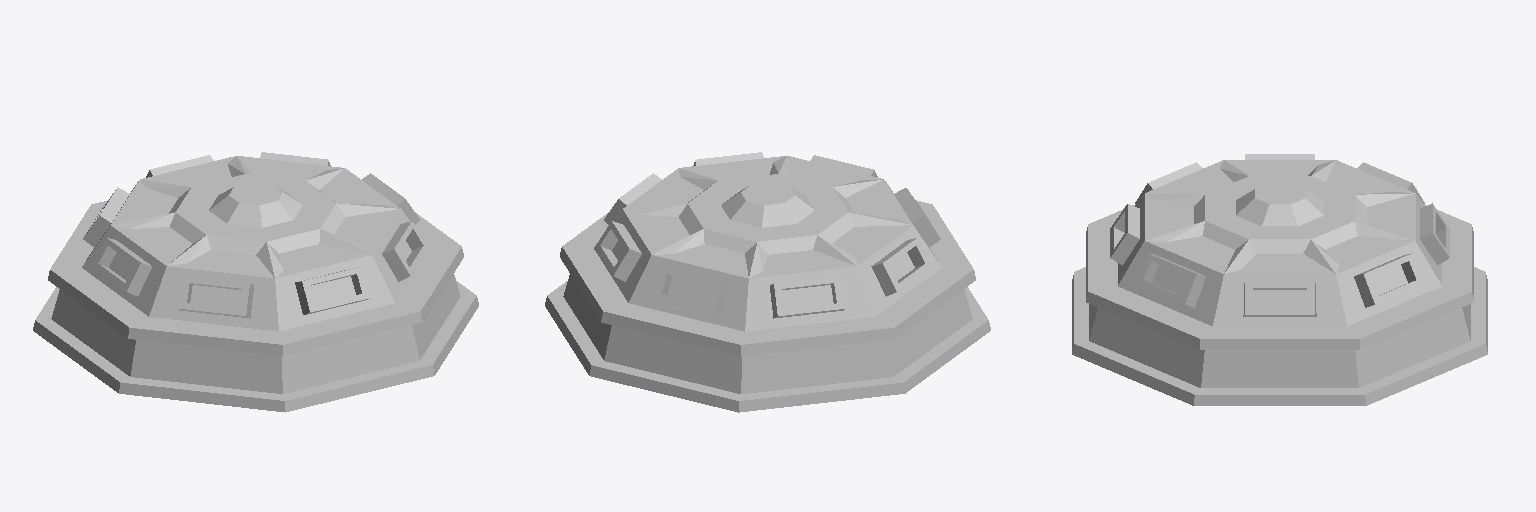
Rendered from Tower_Base.obj.
3 renders of one model, left to right at view 1: azimuth 30°, elevation 25°; view 2: azimuth 150°, elevation 25°; view 3: azimuth 270°, elevation 25°, orthographic.
Parts seen in each view (by area): view 1: TowerBase_Cylinder.001; view 2: TowerBase_Cylinder.001; view 3: TowerBase_Cylinder.001.
Part boxes in pixels (bbox=[...]): TowerBase_Cylinder.001: bbox=[33, 152, 478, 412]; TowerBase_Cylinder.001: bbox=[545, 152, 990, 412]; TowerBase_Cylinder.001: bbox=[1072, 154, 1487, 405].
Bounding box in the file's own units: 2 × 0.661 × 2.